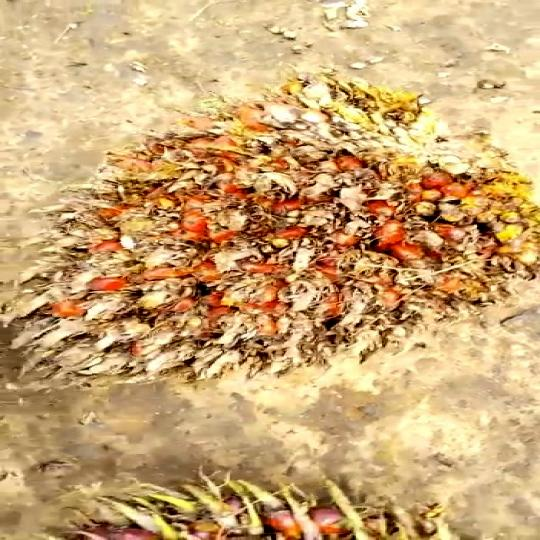terlalu masak: (0, 63, 540, 386)
